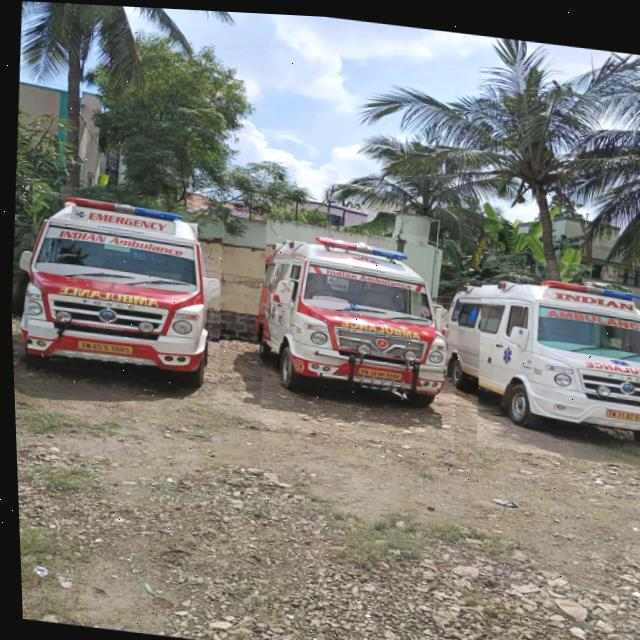Ambulance: (250, 213, 465, 446), (18, 181, 228, 402), (467, 245, 640, 460)
